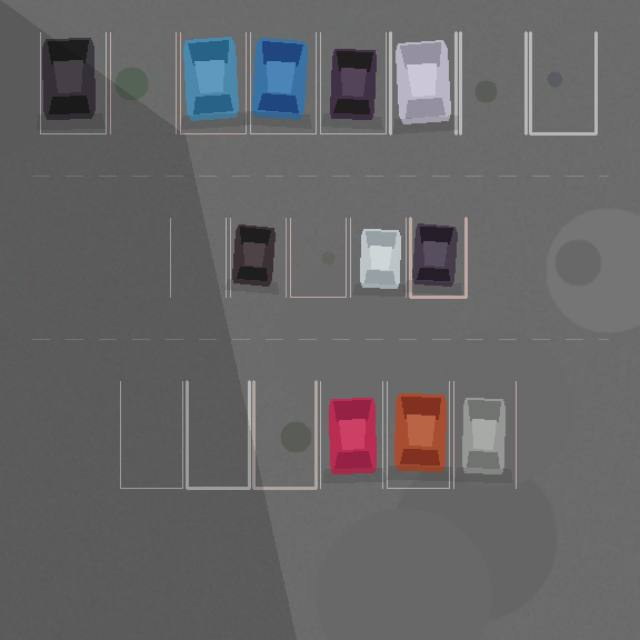space-empty: (253, 381, 316, 488), (110, 32, 176, 133), (460, 32, 526, 133), (530, 32, 596, 133), (120, 381, 182, 488), (187, 381, 249, 488), (170, 218, 226, 297), (290, 218, 346, 297)
space-occupied: (453, 381, 516, 488), (40, 32, 106, 133), (180, 32, 246, 133), (250, 32, 316, 133), (320, 32, 386, 133), (390, 32, 456, 133), (320, 381, 382, 488), (387, 381, 449, 488), (230, 218, 286, 297), (350, 218, 406, 297), (410, 218, 466, 297)
